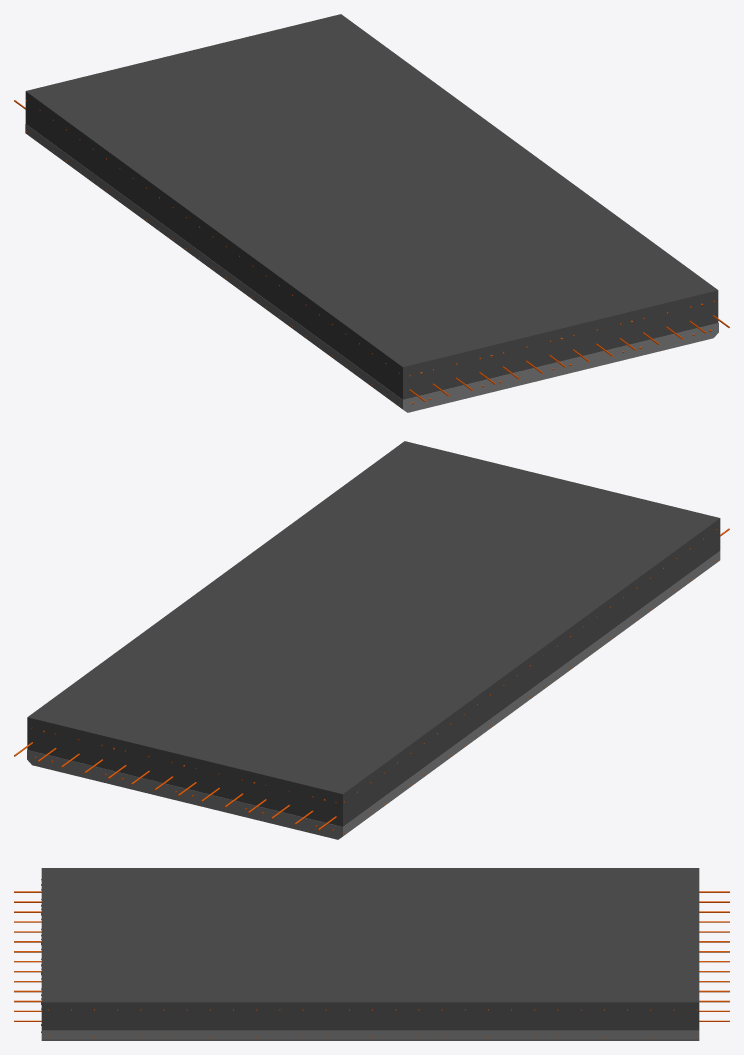
File: produkt.glb
3 views of the same model, one above another, from view 1: azimuth 30°, elevation 25°; view 2: azimuth 150°, elevation 25°; view 3: azimuth 270°, elevation 25° (orthographic). The views are drawn at different scales.
Parts seen in each view (by area): view 1: beton.002, beton.001, zbrojenie.003; view 2: beton.002, beton.001, zbrojenie.003; view 3: beton.002, beton.001, zbrojenie.003.
Part boxes in pixels (x1,y1,x2,y2): beton.002: (25,14,718,399); beton.001: (25,124,718,412); zbrojenie.003: (14,100,729,402); beton.002: (27,441,720,826); beton.001: (27,551,720,839); zbrojenie.003: (14,528,729,830); beton.002: (41,868,699,1030); beton.001: (41,1030,699,1040); zbrojenie.003: (14,891,729,1021).
Size of the model in its own units: 3.41 by 0.4809 by 7.66.
